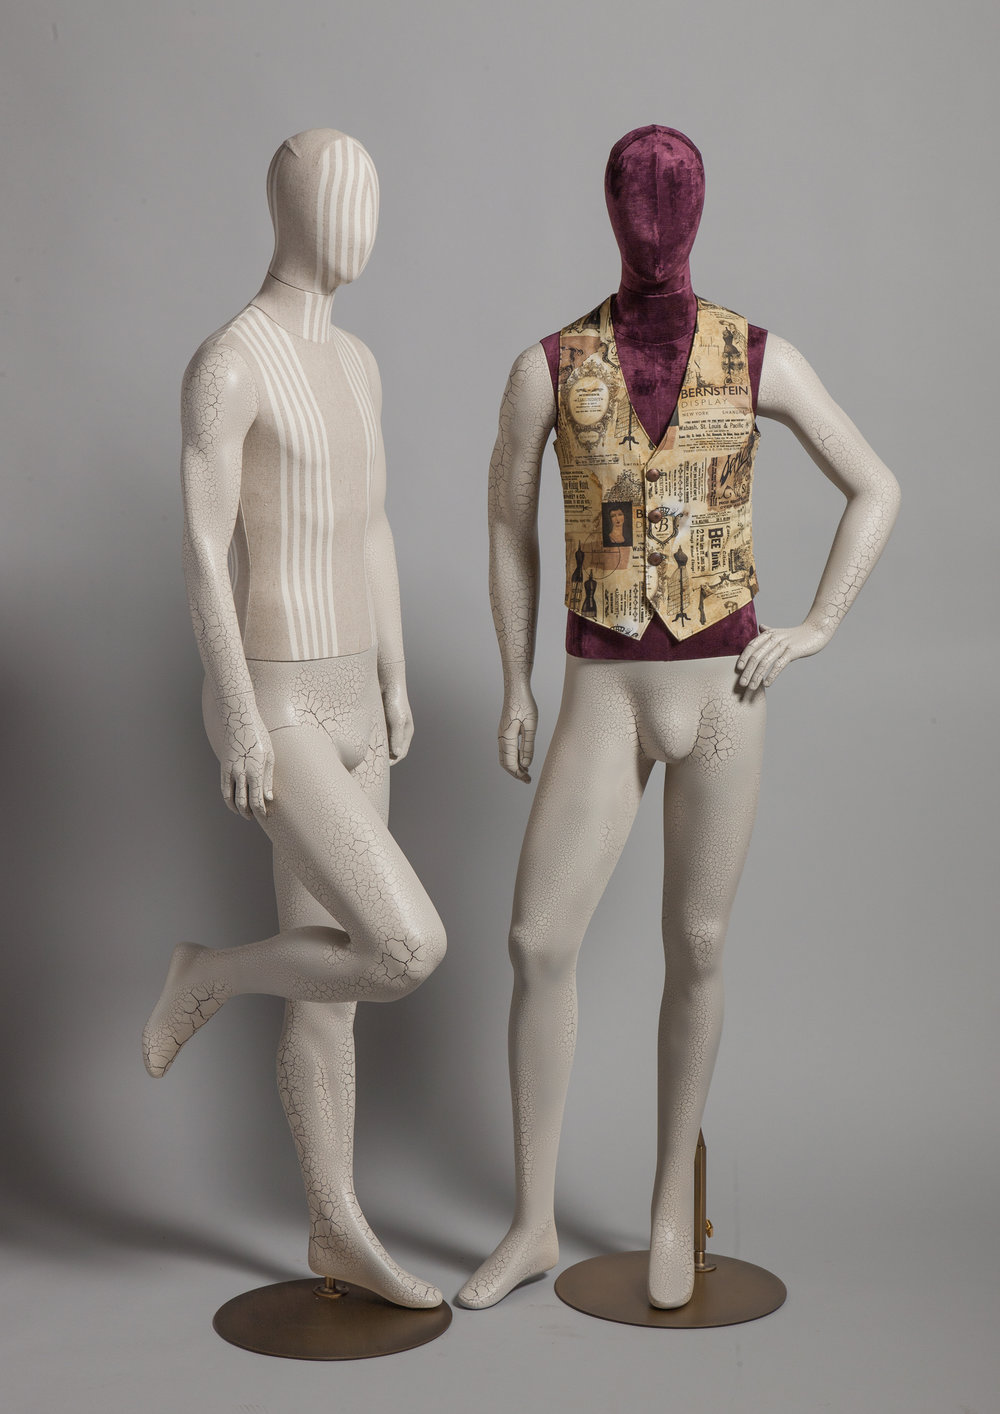person-like: (446, 123, 904, 1320), (130, 114, 461, 1317)
